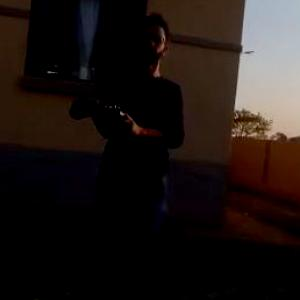follow: (64, 13, 186, 299)
